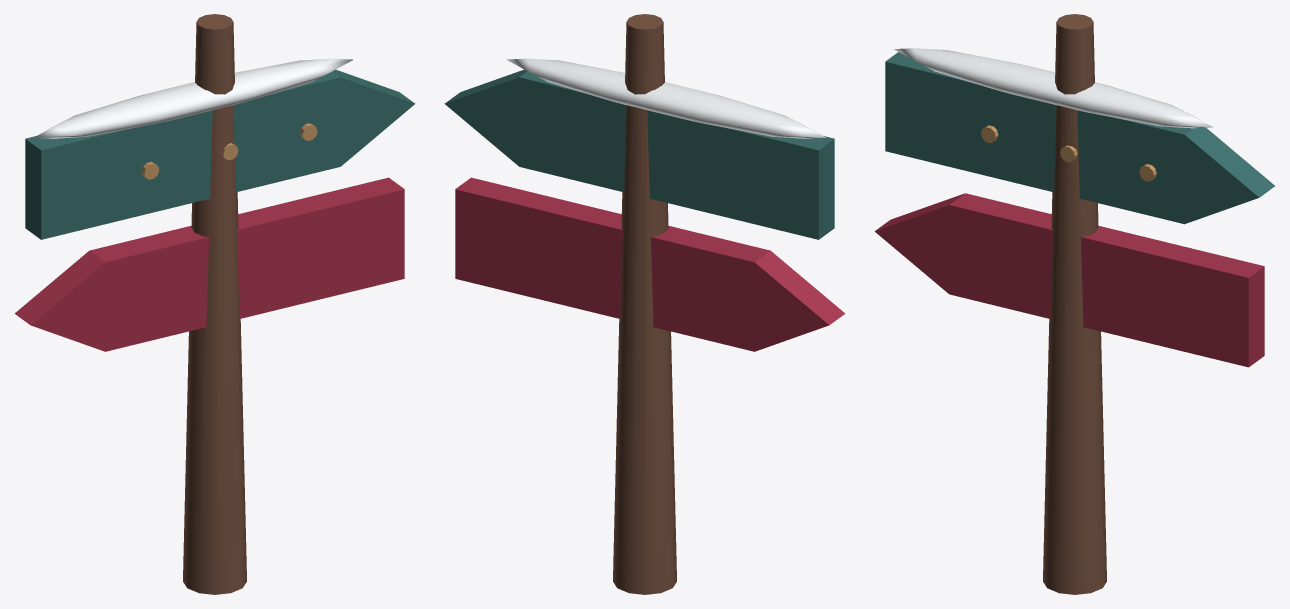
Rendered from wayfinding.glb.
3 renders of one model, left to right at view 1: azimuth 30°, elevation 25°; view 2: azimuth 150°, elevation 25°; view 3: azimuth 330°, elevation 25°, orthographic.
Parts seen in each view (by area): view 1: mountain-wayfinding-post-berry, mountain-wayfinding-post-pine, mountain-wayfinding-post-wood, mountain-wayfinding-post-snow, mountain-wayfinding-post-oak; view 2: mountain-wayfinding-post-berry, mountain-wayfinding-post-pine, mountain-wayfinding-post-wood, mountain-wayfinding-post-snow; view 3: mountain-wayfinding-post-berry, mountain-wayfinding-post-pine, mountain-wayfinding-post-wood, mountain-wayfinding-post-snow, mountain-wayfinding-post-oak.
Part boxes in pixels (left/top/right/bottom): mountain-wayfinding-post-berry: left=14, top=177, right=404, bottom=351; mountain-wayfinding-post-pine: left=25, top=69, right=415, bottom=239; mountain-wayfinding-post-wood: left=183, top=14, right=246, bottom=594; mountain-wayfinding-post-snow: left=33, top=58, right=352, bottom=138; mountain-wayfinding-post-oak: left=141, top=123, right=317, bottom=179; mountain-wayfinding-post-berry: left=455, top=177, right=845, bottom=351; mountain-wayfinding-post-pine: left=444, top=69, right=834, bottom=239; mountain-wayfinding-post-wood: left=613, top=14, right=676, bottom=594; mountain-wayfinding-post-snow: left=507, top=58, right=826, bottom=138; mountain-wayfinding-post-berry: left=875, top=193, right=1264, bottom=367; mountain-wayfinding-post-pine: left=885, top=52, right=1274, bottom=224; mountain-wayfinding-post-wood: left=1043, top=14, right=1106, bottom=594; mountain-wayfinding-post-snow: left=893, top=48, right=1213, bottom=128; mountain-wayfinding-post-oak: left=981, top=125, right=1156, bottom=181.
Bounding box in the file's own units: 1.8 × 2.5 × 0.26.
